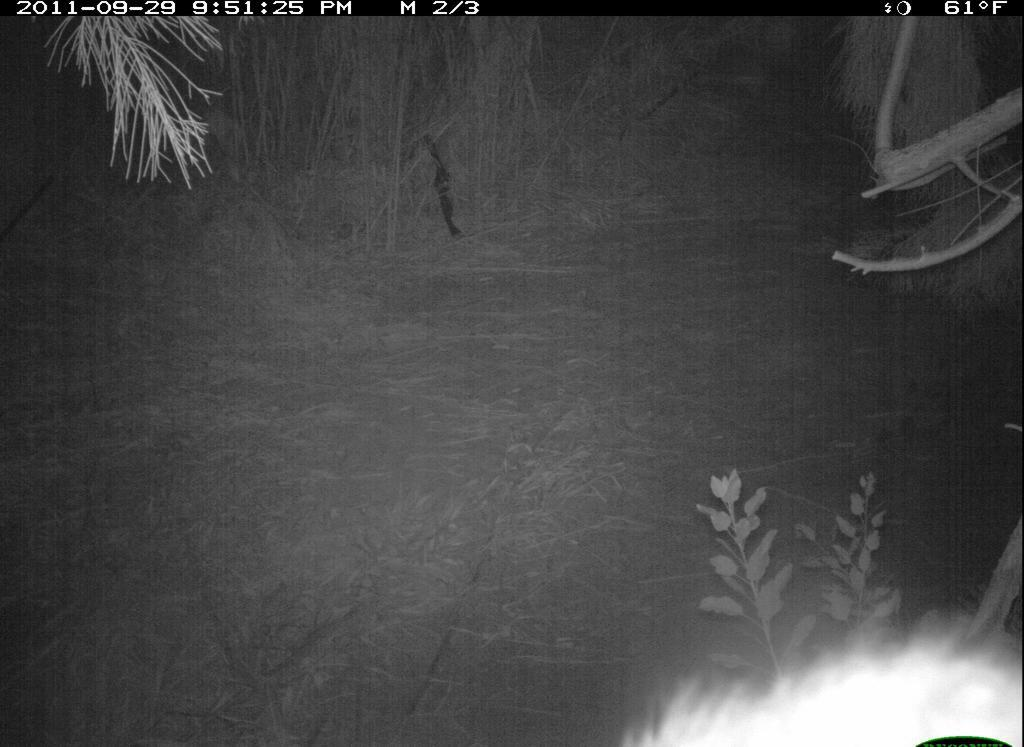raccoon: (606, 605, 1018, 747)
